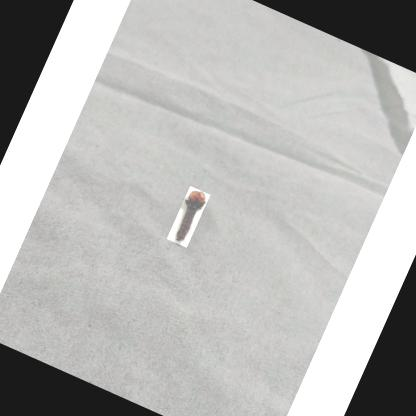sedang: (175, 191, 207, 244)
